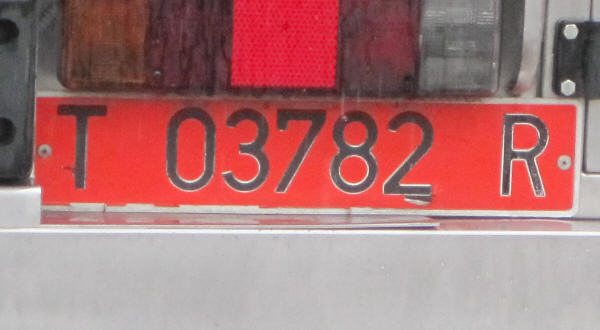license_plate: (32, 95, 577, 214)
